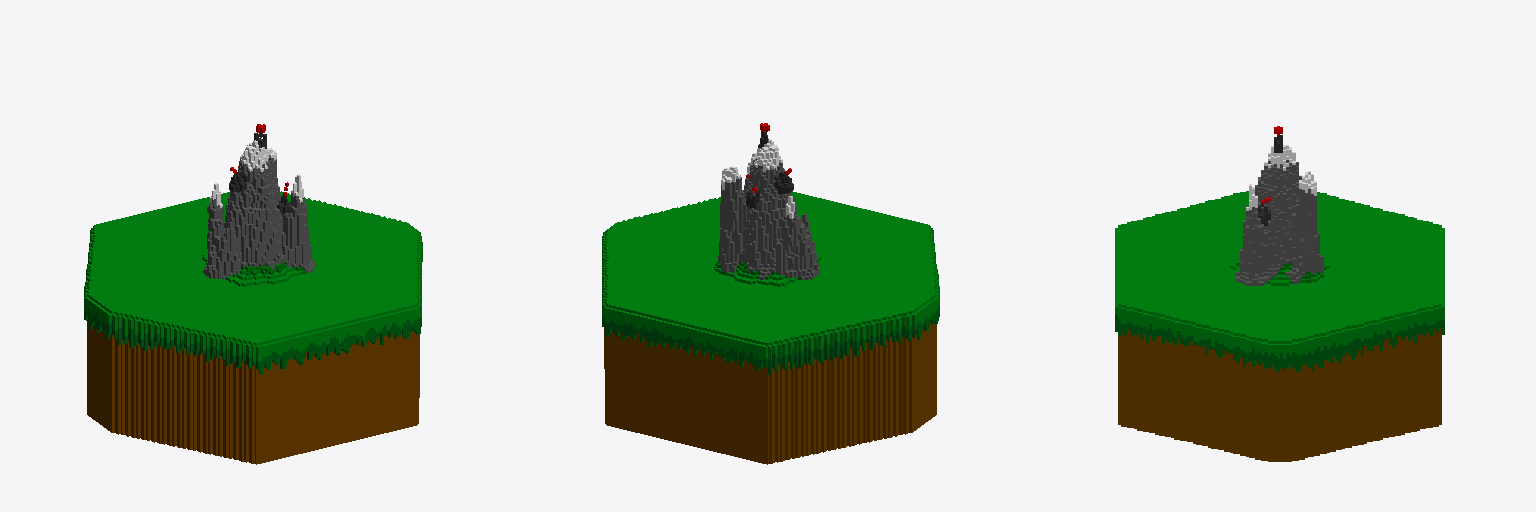
3 views of the same model, side by side, from view 1: azimuth 30°, elevation 25°; view 2: azimuth 150°, elevation 25°; view 3: azimuth 270°, elevation 25° (orthographic).
Visible parts, largest first — view 1: object 1; view 2: object 1; view 3: object 1.
Part boxes in pixels (x1,y1,x2,y2): object 1: (84, 124, 422, 464); object 1: (602, 123, 939, 464); object 1: (1115, 126, 1444, 461).
Bounding box in the file's own units: 11.8 × 9.2 × 10.6.
1 materials, 1 textured.